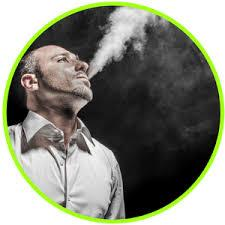smoke: (58, 10, 221, 150)
